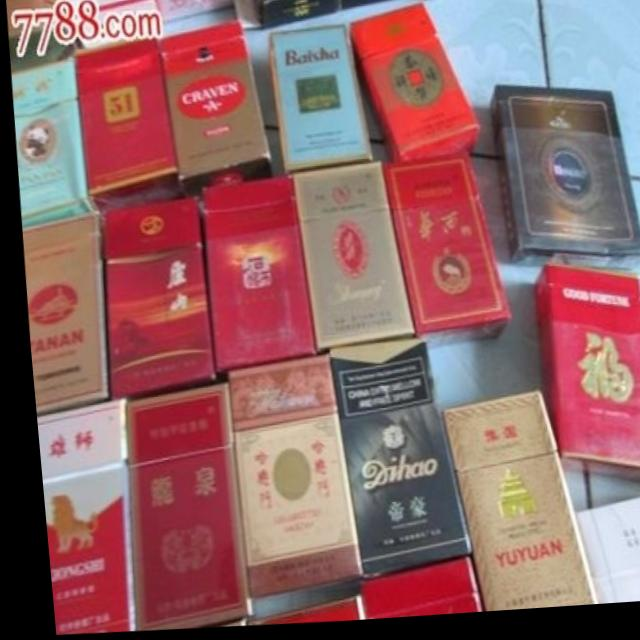box: (432, 398, 590, 618), (322, 339, 461, 581), (220, 358, 352, 602), (487, 90, 638, 280), (119, 385, 234, 632), (376, 153, 504, 353), (528, 270, 640, 492), (284, 164, 408, 353), (102, 195, 207, 401), (29, 399, 121, 634), (202, 174, 308, 374), (345, 9, 475, 167), (158, 25, 269, 199), (73, 40, 178, 215), (17, 215, 100, 414), (267, 30, 370, 176), (9, 59, 87, 228), (351, 558, 473, 624), (244, 600, 354, 627)
